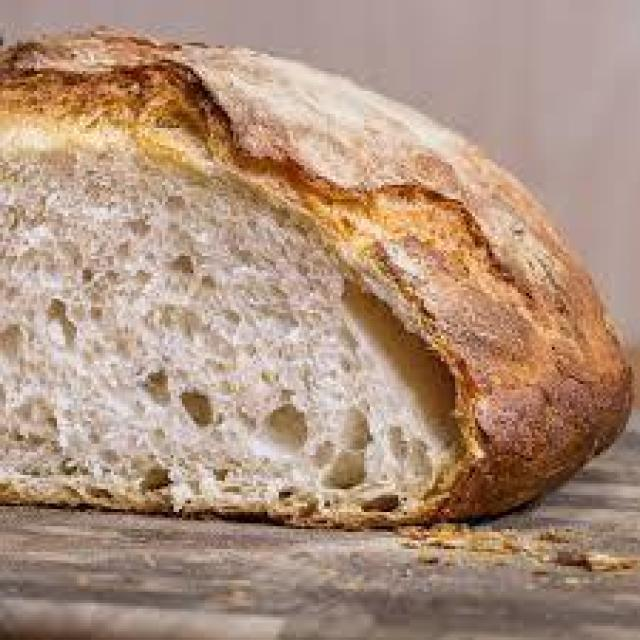organic: (0, 23, 634, 538)
